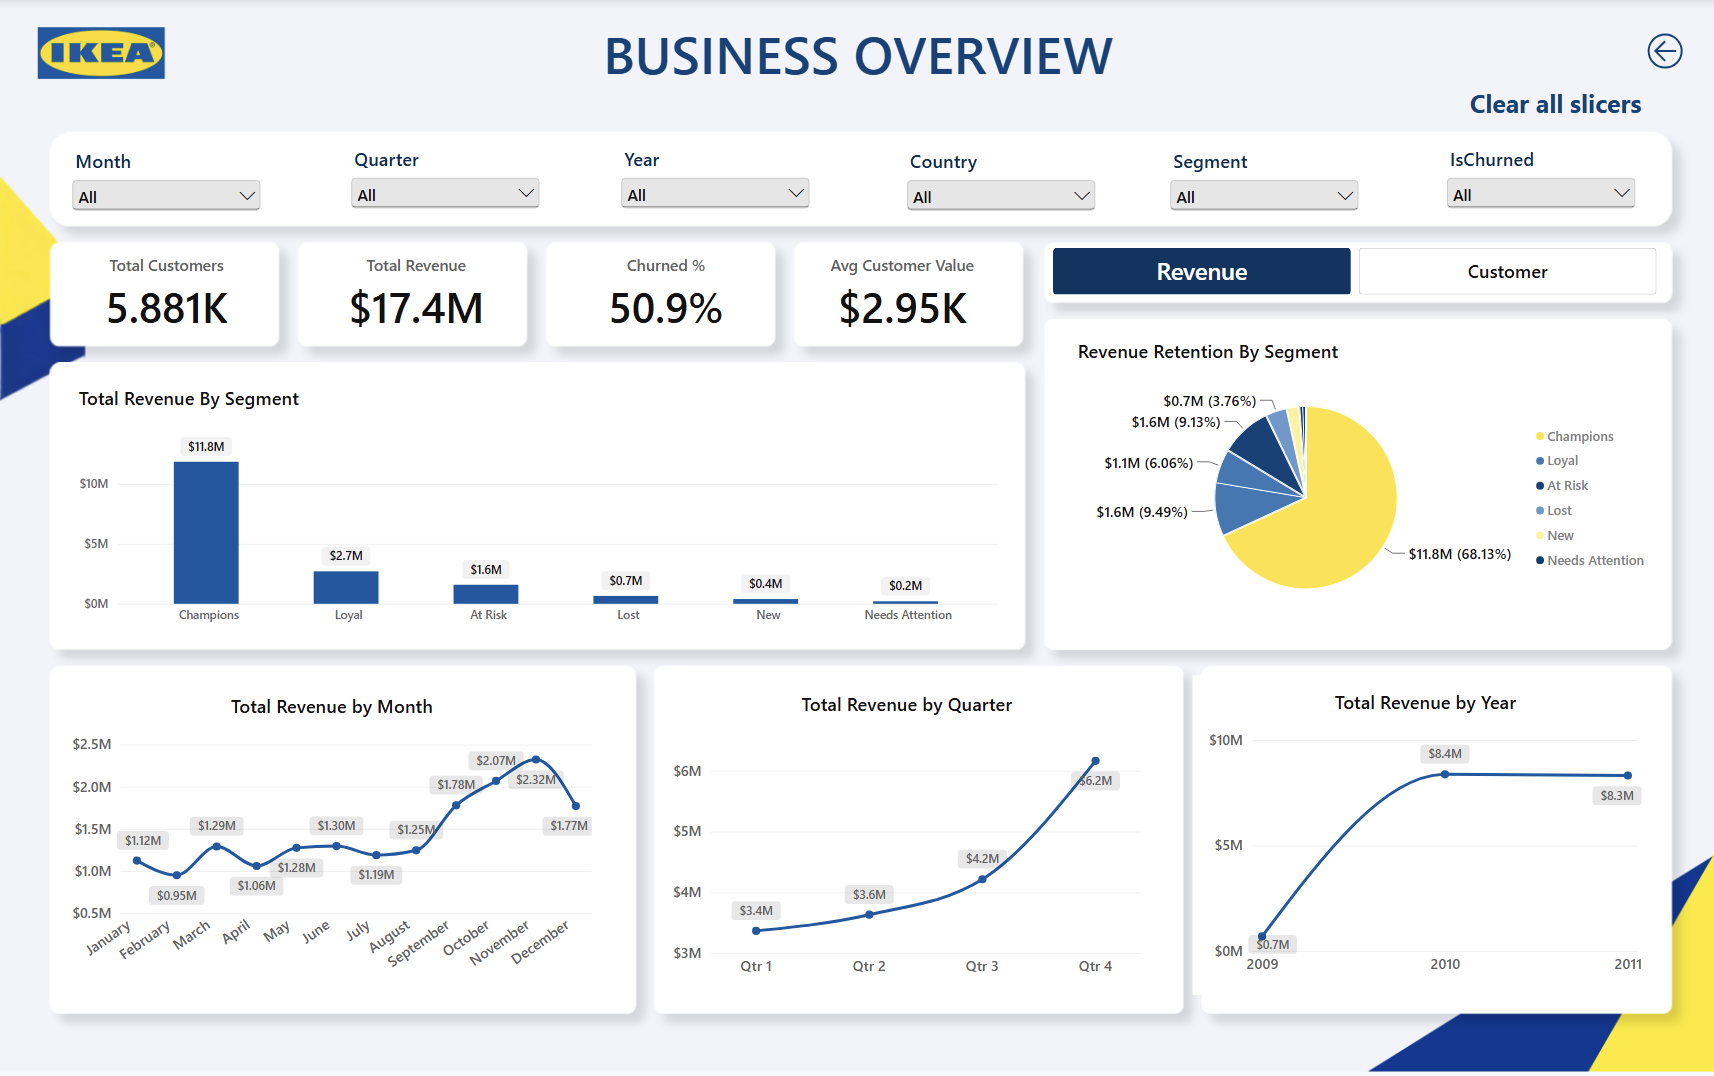

The dashboard page shown, as its layout file describes it:
{"tool":"powerbi","page":{"name":"Business Overview","canvas":[1750,1100],"ordinal":1},"visuals":[{"type":"cardVisual","fields":{"Data":["measure.Total Customers"]},"box":[68.9,259.4,202,87.2],"z":0},{"type":"lineChart","fields":{"Category":["Sheet1.InvoiceMonth.Variation.Date Hierarchy.Year"],"Y":["measure.Total Customers"]},"box":[1230.6,693.2,475.3,326],"z":0,"group":"g1"},{"type":"cardVisual","fields":{"Data":["measure.Total Revenue"]},"box":[323.7,259.4,202,87.2],"z":1000},{"type":"columnChart","title":"Total Customer by Segment","fields":{"Category":["Sheet1.Segment"],"Y":["measure.Total Customers"]},"box":[62,378.3,971.2,277.8],"z":1000,"group":"g1"},{"type":"cardVisual","fields":{"Data":["measure.Churned %"]},"box":[578.6,259.4,202,87.2],"z":2000},{"type":"columnChart","title":"Customer Retention by Segment","fields":{"Category":["Sheet1.Segment"],"Series":["Sheet1.IsChurned"],"Y":["measure.Total Customers"]},"box":[1072.2,342.1,619.9,314.5],"z":2000,"group":"g1"},{"type":"cardVisual","fields":{"Data":["measure.Avg Customer Value"]},"box":[819.6,259.4,202,87.2],"z":3000},{"type":"lineChart","title":"Total Customer by Month","fields":{"Category":["Sheet1.InvoiceMonth.Variation.Date Hierarchy.Month"],"Y":["measure.Total Customers"]},"box":[63.7,697.4,562.5,326],"z":3000,"group":"g1"},{"type":"slicer","fields":{"Values":["Sheet1.InvoiceDate.Variation.Date Hierarchy.Month"]},"box":[68.9,153.8,202,80.4],"z":4000},{"type":"lineChart","fields":{"Category":["Sheet1.InvoiceMonth.Variation.Date Hierarchy.Quarter"],"Y":["measure.Total Customers"]},"box":[685.9,695.3,509.7,326],"z":4000,"group":"g1"},{"type":"slicer","fields":{"Values":["Sheet1.InvoiceDate.Variation.Date Hierarchy.Quarter"]},"box":[353.6,151.5,202,80.4],"z":5000},{"type":"slicer","fields":{"Values":["Sheet1.InvoiceDate.Variation.Date Hierarchy.Year"]},"box":[630,151.5,202,89.5],"z":6000},{"type":"slicer","fields":{"Values":["Sheet1.Country"]},"box":[920.7,153.8,202,89.5],"z":7000},{"type":"slicer","fields":{"Values":["Sheet1.Segment"]},"box":[1189.3,153.8,202,89.5],"z":8000},{"type":"slicer","fields":{"Values":["Sheet1.IsChurned"]},"box":[1471.7,151.5,202,89.5],"z":9000},{"type":"group","id":"g1","title":"Customer","box":[62,342.1,1643.9,681.4],"z":10000},{"type":"bookmarkNavigator","box":[1074.5,254.8,617.6,48.2],"z":12000},{"type":"image","box":[0,0,206.6,112.5],"z":13000},{"type":"textbox","box":[593.7,20.7,562.5,87.2],"z":14000},{"type":"actionButton","box":[1648.5,25.3,101,57.4],"z":15000},{"type":"actionButton","box":[1483.3,83.3,208.3,50],"z":16000}]}

Visuals, with their boxes in screenshot pixels (x1, y1, x2, y2), scaled from the page's 1750x1100 canvas onto the 1714x1076 screenshot:
cardVisual - measure.Total Customers: <bbox>67, 254, 265, 339</bbox>
lineChart - Sheet1.InvoiceMonth.Variation.Date Hierarchy.Year x measure.Total Customers: <bbox>1205, 678, 1671, 997</bbox>
cardVisual - measure.Total Revenue: <bbox>317, 254, 515, 339</bbox>
"Total Customer by Segment" columnChart: <bbox>61, 370, 1012, 642</bbox>
cardVisual - measure.Churned %: <bbox>567, 254, 765, 339</bbox>
"Customer Retention by Segment" columnChart: <bbox>1050, 335, 1657, 642</bbox>
cardVisual - measure.Avg Customer Value: <bbox>803, 254, 1001, 339</bbox>
"Total Customer by Month" lineChart: <bbox>62, 682, 613, 1001</bbox>
slicer - Sheet1.InvoiceDate.Variation.Date Hierarchy.Month: <bbox>67, 150, 265, 229</bbox>
lineChart - Sheet1.InvoiceMonth.Variation.Date Hierarchy.Quarter x measure.Total Customers: <bbox>672, 680, 1171, 999</bbox>
slicer - Sheet1.InvoiceDate.Variation.Date Hierarchy.Quarter: <bbox>346, 148, 544, 227</bbox>
slicer - Sheet1.InvoiceDate.Variation.Date Hierarchy.Year: <bbox>617, 148, 815, 236</bbox>
slicer - Sheet1.Country: <bbox>902, 150, 1100, 238</bbox>
slicer - Sheet1.Segment: <bbox>1165, 150, 1363, 238</bbox>
slicer - Sheet1.IsChurned: <bbox>1441, 148, 1639, 236</bbox>
"Customer" group: <bbox>61, 335, 1671, 1001</bbox>
bookmarkNavigator: <bbox>1052, 249, 1657, 296</bbox>
image: <bbox>0, 0, 202, 110</bbox>
textbox: <bbox>581, 20, 1132, 106</bbox>
actionButton: <bbox>1615, 25, 1713, 81</bbox>
actionButton: <bbox>1453, 81, 1657, 130</bbox>
